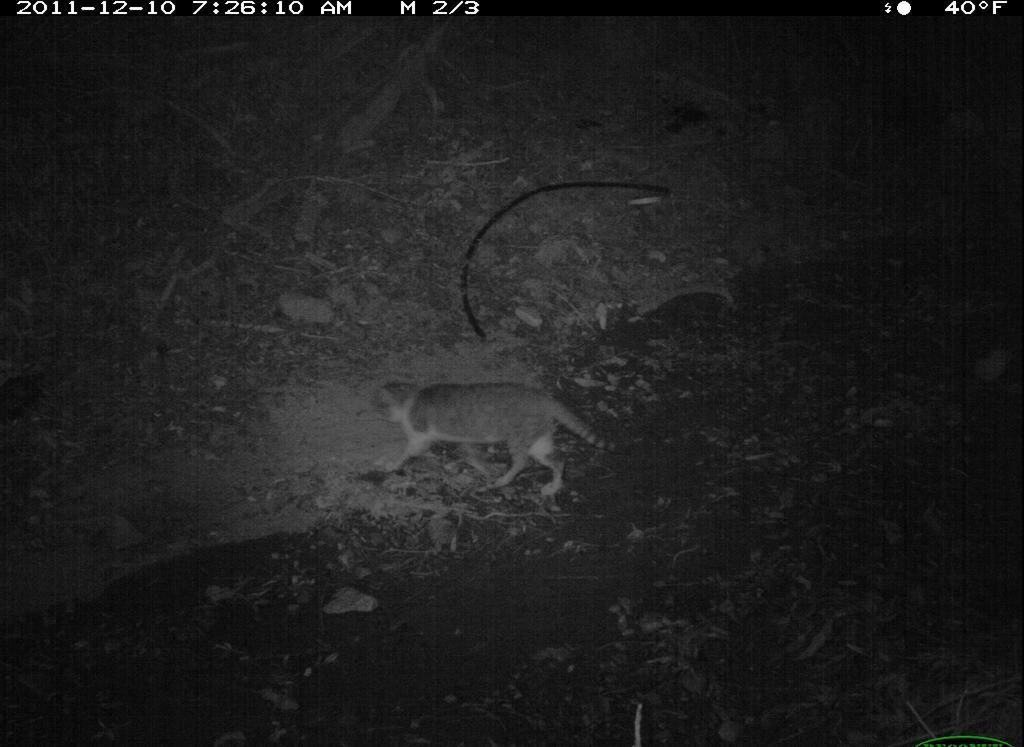cat: (361, 370, 639, 504)
